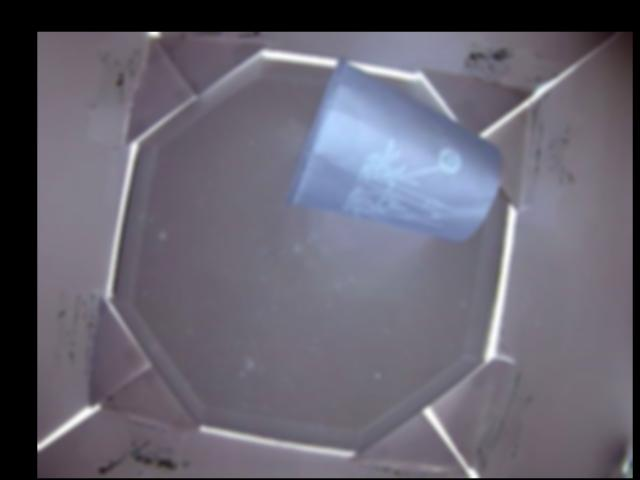Cup: (291, 54, 503, 241)
